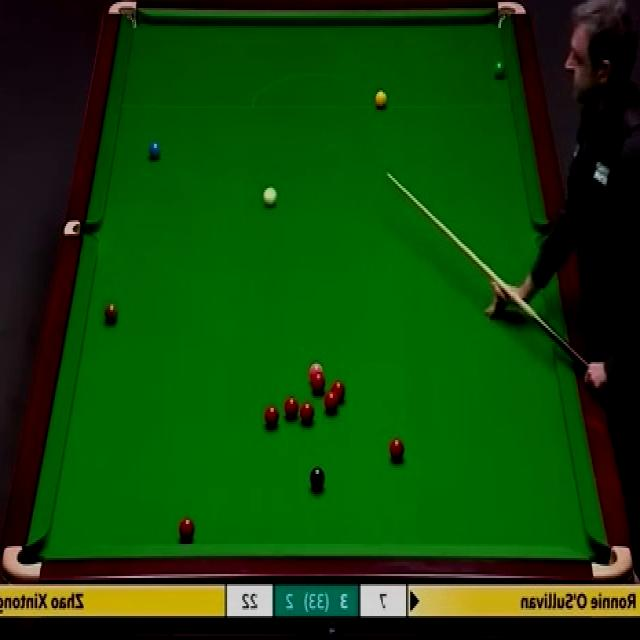pocket: (2, 544, 42, 583), (590, 544, 634, 579), (107, 2, 138, 32), (496, 1, 528, 30), (64, 222, 98, 240)
